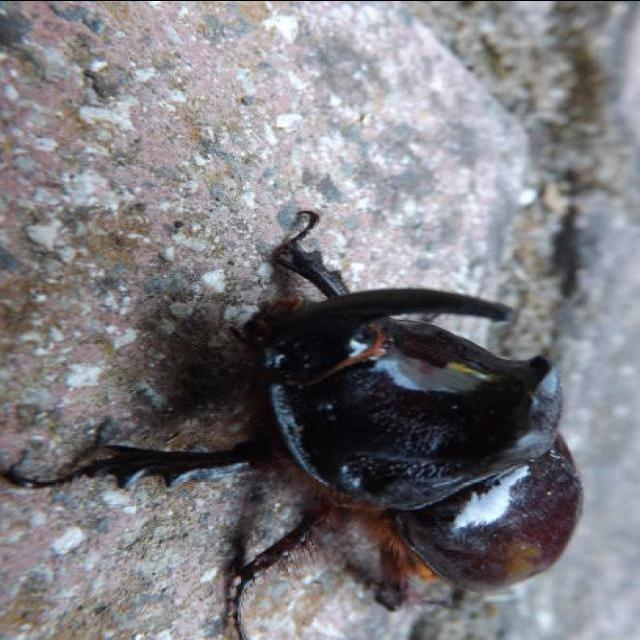Rhino-beetle: (123, 230, 582, 624)
